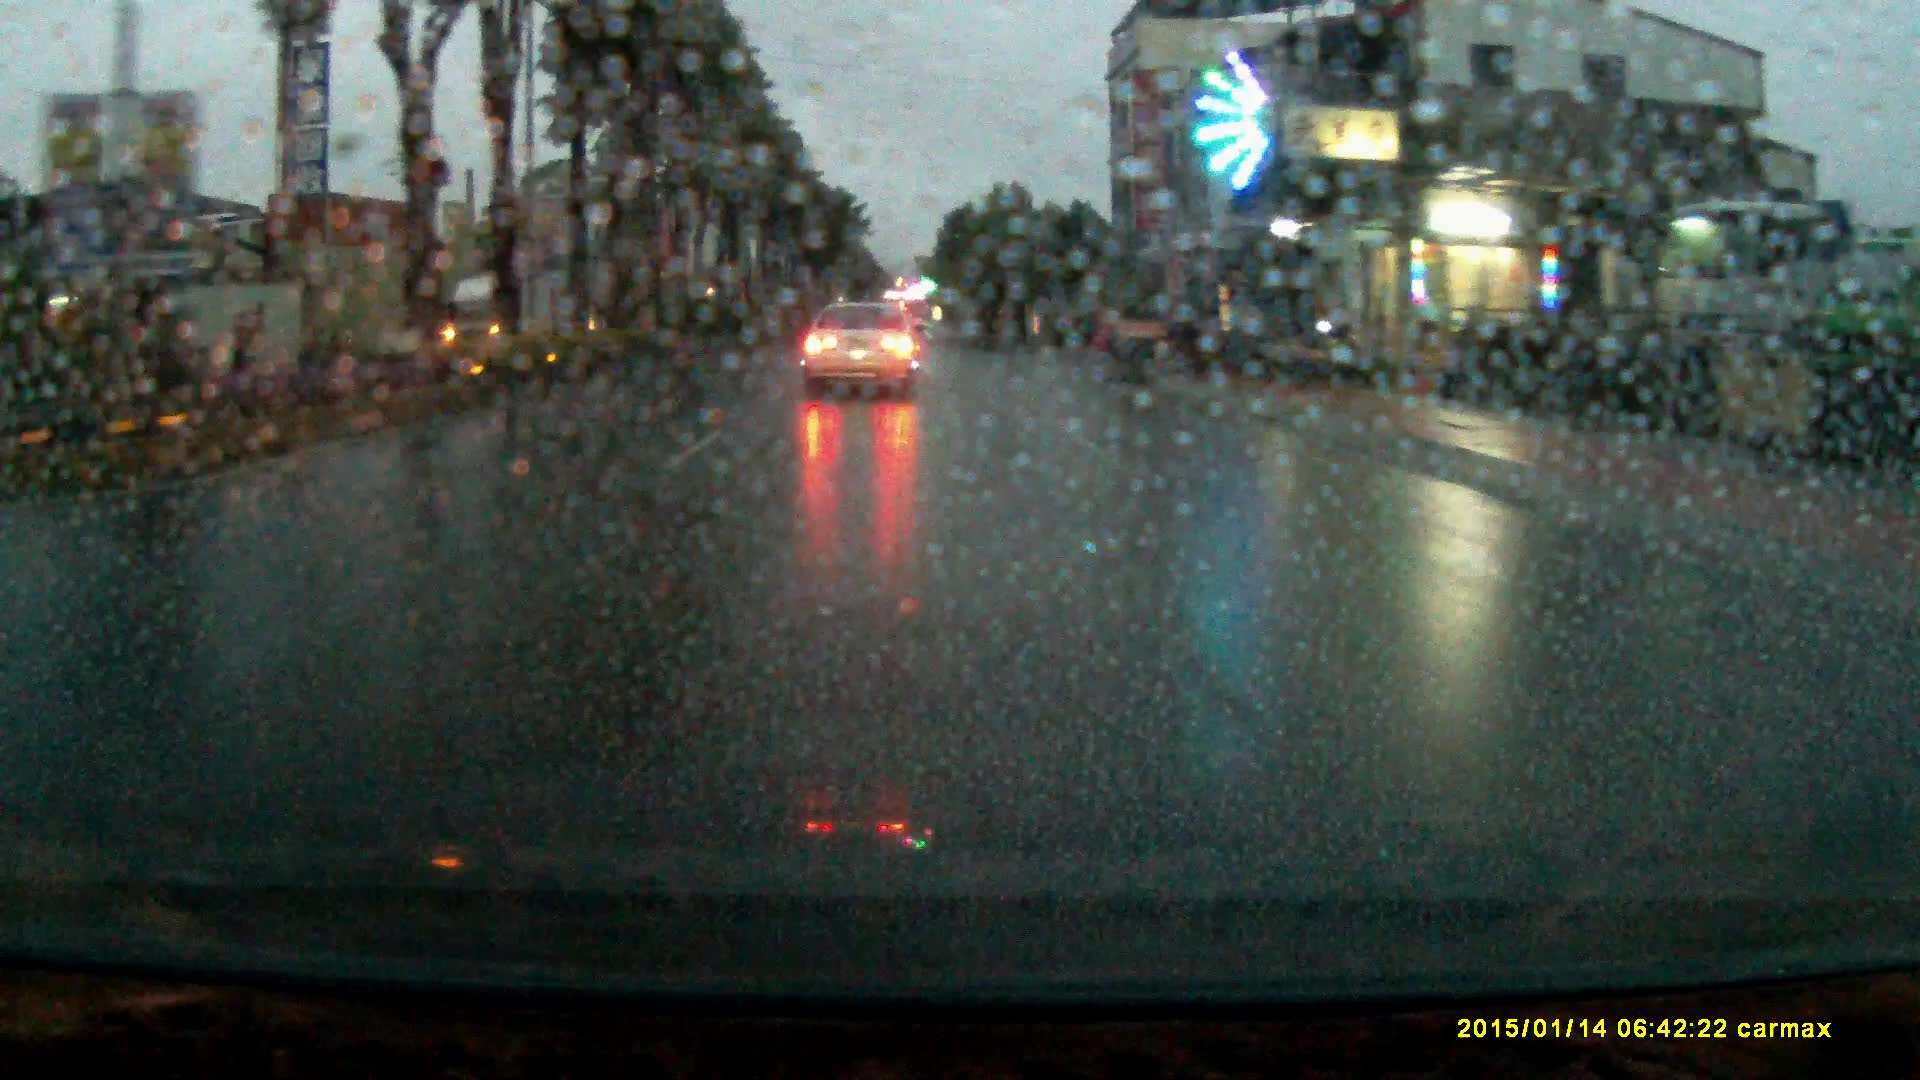vehicle: (1642, 204, 1837, 392), (800, 303, 916, 406), (443, 269, 555, 349), (1031, 305, 1095, 353)
